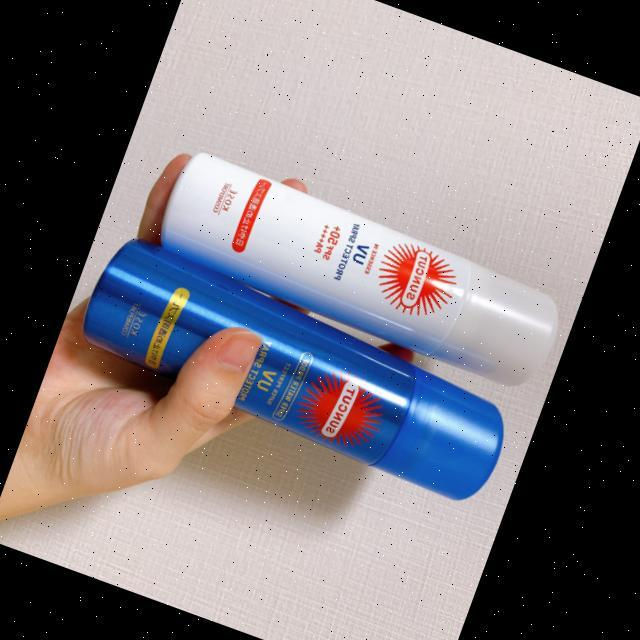chemical_spray_can: (91, 70, 604, 413), (58, 232, 534, 524)
